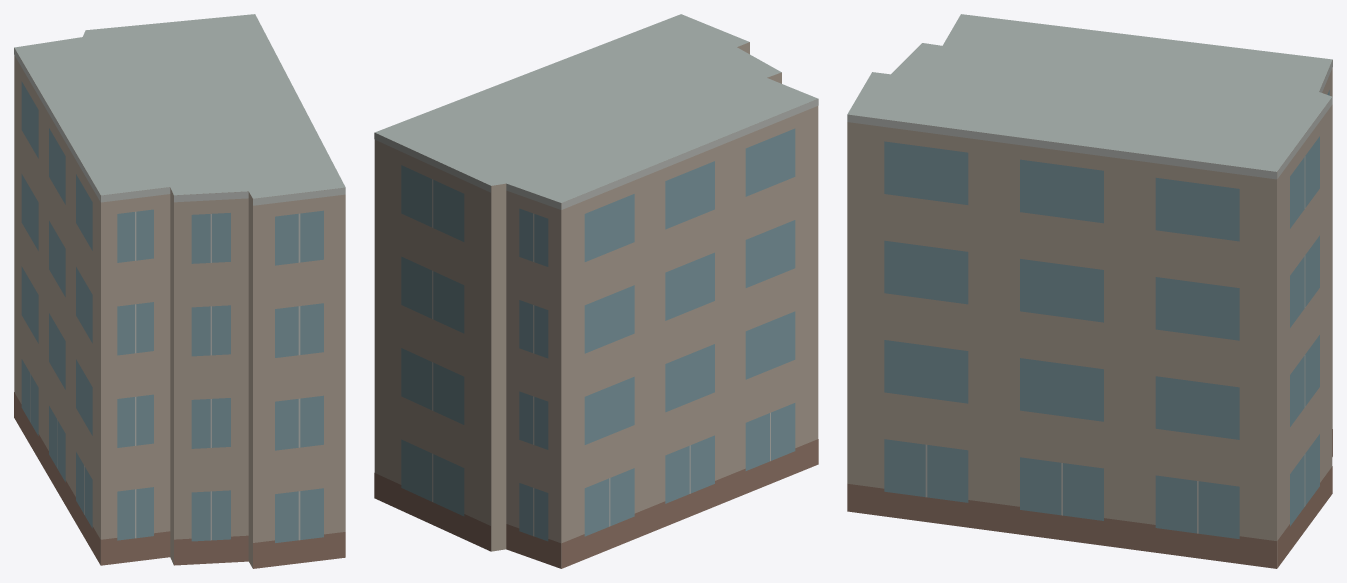
The model's file is survey-upis-32658167.glb.
3 views of the same model, side by side, from view 1: azimuth 30°, elevation 25°; view 2: azimuth 150°, elevation 25°; view 3: azimuth 270°, elevation 25° (orthographic). The views are drawn at different scales.
Visible parts, largest first — view 1: survey-upis-32658167.tmp; view 2: survey-upis-32658167.tmp; view 3: survey-upis-32658167.tmp.
Part boxes in pixels (<box>): survey-upis-32658167.tmp: <box>14,14,345,568</box>; survey-upis-32658167.tmp: <box>374,14,818,568</box>; survey-upis-32658167.tmp: <box>847,14,1332,568</box>.
Size of the model in its own units: 10.93 by 12.8 by 14.2.
